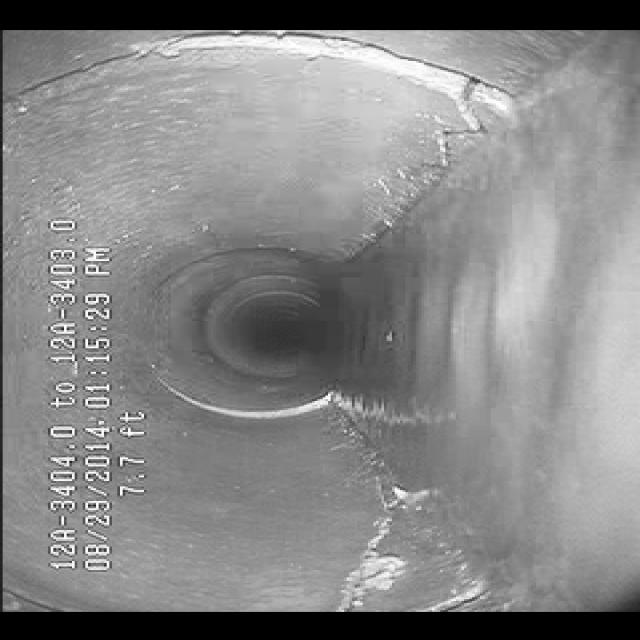Fracture: (298, 483, 416, 601)
